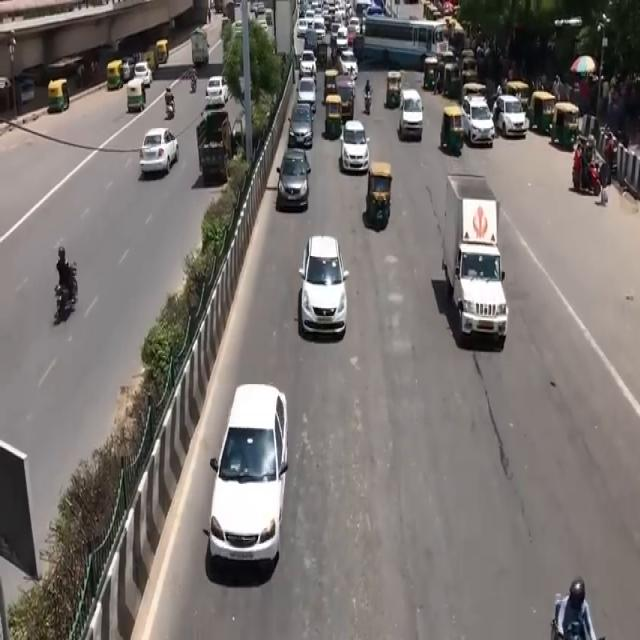BUS: (361, 12, 446, 66)
SED: (212, 384, 289, 563), (301, 233, 344, 343)
TRUCK: (447, 176, 510, 352)
